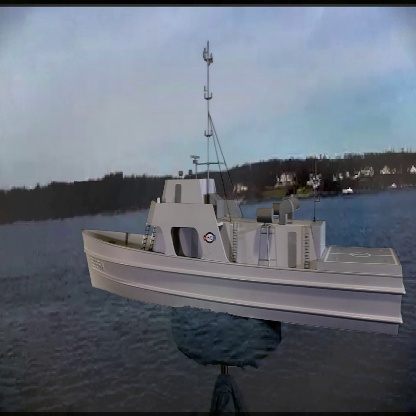YP689: (81, 37, 405, 339)
